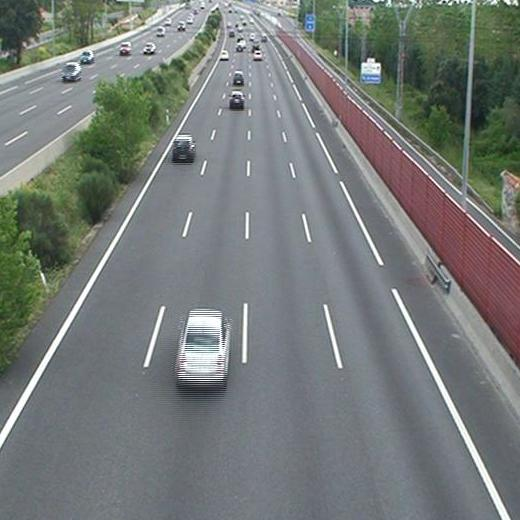car: (176, 311, 226, 383), (172, 136, 195, 158), (229, 92, 245, 107), (232, 71, 245, 85), (219, 50, 229, 59), (253, 50, 261, 59)
